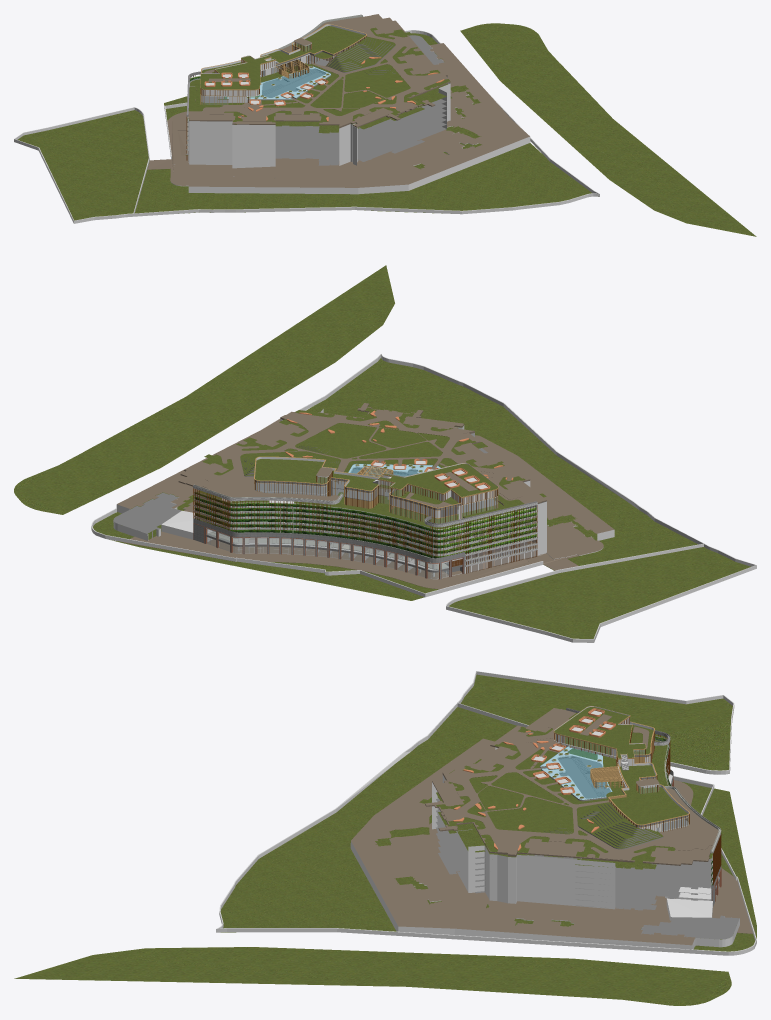
File: 03_SM_Podium.glb
3 views of the same model, one above another, from view 1: azimuth 30°, elevation 25°; view 2: azimuth 150°, elevation 25°; view 3: azimuth 270°, elevation 25° (orthographic). The views are drawn at different scales.
Parts seen in each view (by area): view 1: SM_Podium, SM_SidePlot, SM_Tower_Ground, SM_ClubHouse, SM_Compound_Wall_01, SM_Compound_Wall_02; view 2: SM_Podium, SM_SidePlot, SM_Tower_Ground, SM_ClubHouse, SM_Compound_Wall_01, SM_Tower_FrontPlot, SM_Compound_Wall_02; view 3: SM_Podium, SM_SidePlot, SM_Tower_Ground, SM_ClubHouse, SM_Compound_Wall_01, SM_Tower_FrontPlot, SM_Compound_Wall_02.
Part boxes in pixels (<box>): SM_Podium: <box>147,14,530,194</box>; SM_SidePlot: <box>17,23,756,236</box>; SM_Tower_Ground: <box>135,33,592,213</box>; SM_ClubHouse: <box>200,24,366,104</box>; SM_Compound_Wall_01: <box>133,30,599,216</box>; SM_Compound_Wall_02: <box>14,107,149,223</box>; SM_Podium: <box>113,403,614,589</box>; SM_SidePlot: <box>14,265,750,638</box>; SM_Tower_Ground: <box>93,358,698,593</box>; SM_ClubHouse: <box>254,456,498,523</box>; SM_Compound_Wall_01: <box>91,354,704,597</box>; SM_Tower_FrontPlot: <box>109,539,424,600</box>; SM_Compound_Wall_02: <box>446,543,756,642</box>; SM_Podium: <box>350,708,755,949</box>; SM_SidePlot: <box>14,674,732,1005</box>; SM_Tower_Ground: <box>220,707,754,951</box>; SM_ClubHouse: <box>553,706,689,832</box>; SM_Compound_Wall_01: <box>216,702,756,955</box>; SM_Tower_FrontPlot: <box>702,788,756,938</box>; SM_Compound_Wall_02: <box>457,671,734,774</box>.
Bounding box in the file's own units: 18.94 × 2.02 × 17.93.
15 materials, 3 textured.
